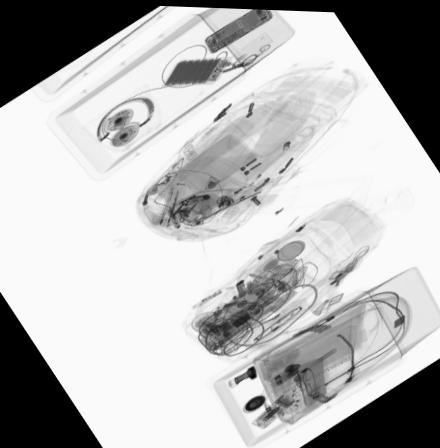Lighter: (189, 286, 221, 309)
